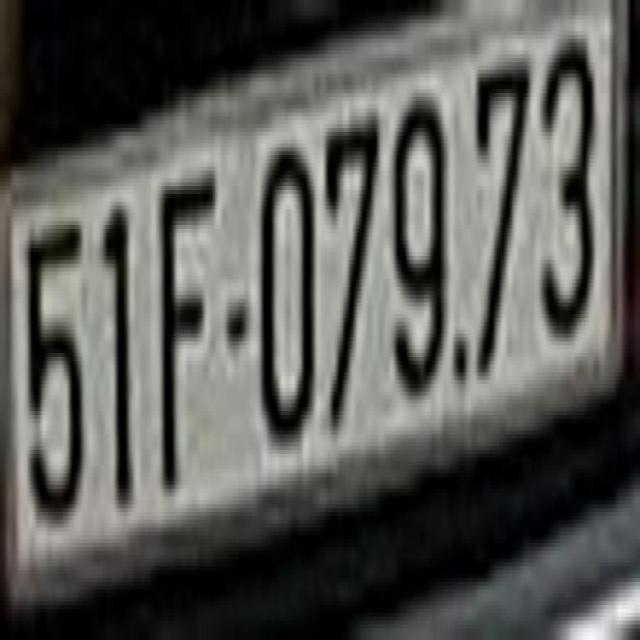0: (256, 109, 318, 474)
1: (94, 178, 148, 536)
3: (538, 8, 594, 360)
5: (23, 170, 91, 532)
7: (321, 58, 382, 450), (472, 31, 530, 388)
9: (387, 62, 447, 423)
F: (152, 144, 220, 492)
